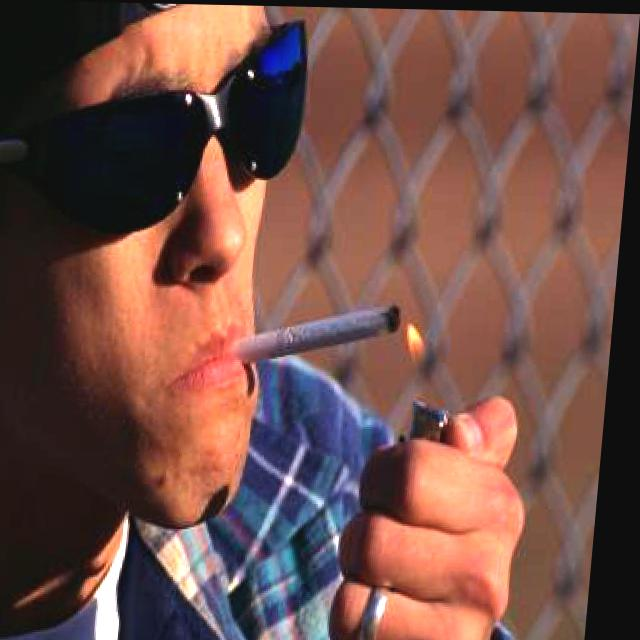Fire: (399, 310, 450, 390)
